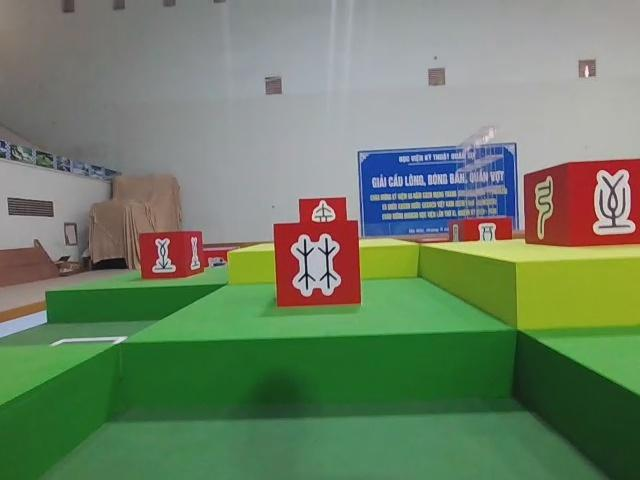R2 Fake: (521, 155, 640, 245)
R2 Real: (273, 219, 362, 308), (138, 232, 206, 280)
